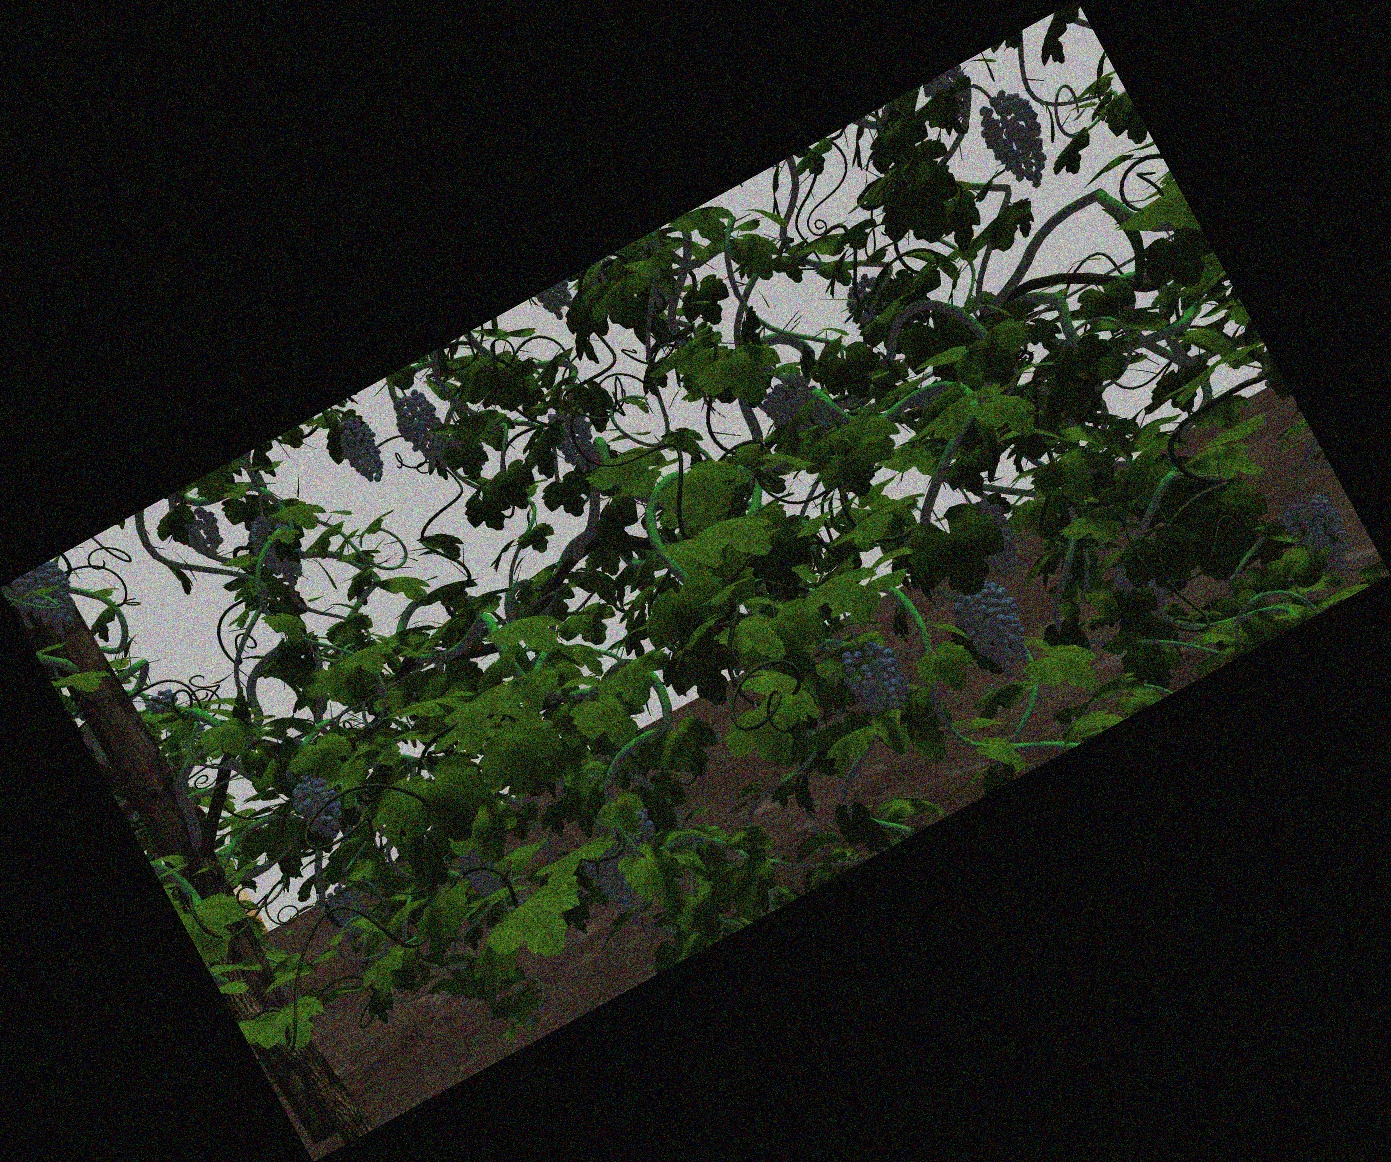grape: (989, 94, 1046, 184), (968, 586, 1024, 675), (1300, 496, 1348, 579), (851, 645, 903, 714), (403, 394, 445, 469), (24, 571, 74, 630), (258, 514, 299, 583), (593, 846, 635, 911), (298, 775, 340, 841), (771, 382, 819, 435), (556, 407, 592, 471), (345, 418, 380, 481), (466, 847, 498, 897), (187, 509, 220, 552)
